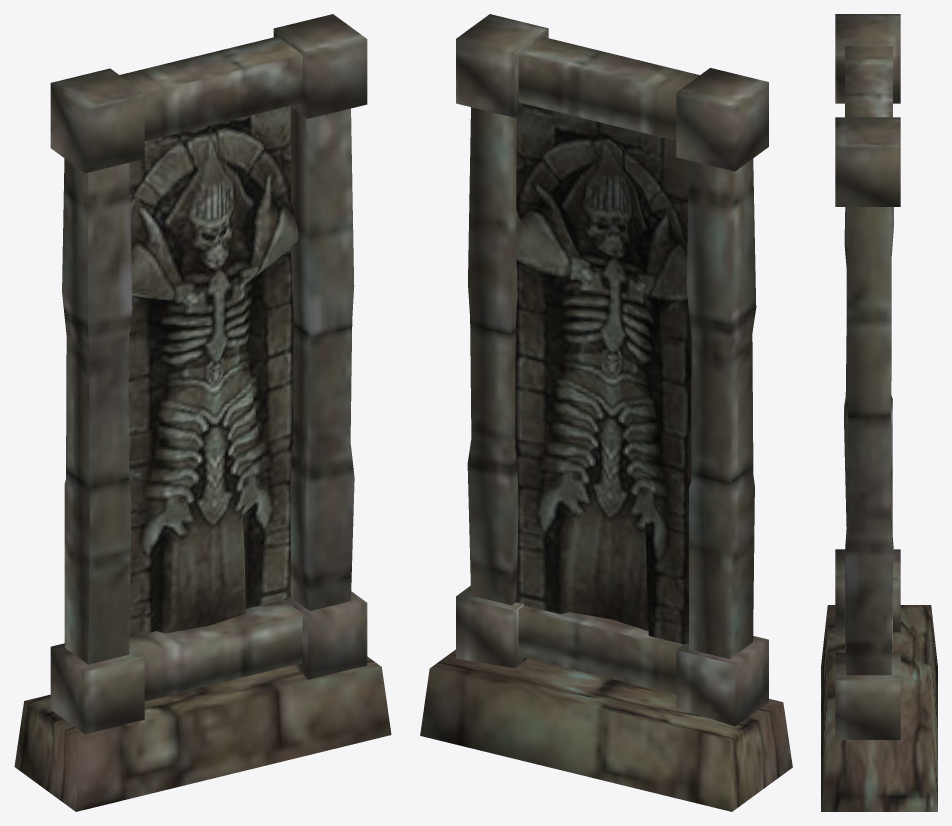
The model's file is King.fbx.
3 renders of one model, left to right at view 1: azimuth 30°, elevation 25°; view 2: azimuth 150°, elevation 25°; view 3: azimuth 270°, elevation 25°, orthographic. The views are drawn at different scales.
Visible parts, largest first — view 1: king; view 2: king; view 3: king.
Boxes of the visible parts, x1,y1,x2,y2 form: king: (14,14,391,811); king: (420,14,792,811); king: (821,14,937,811).
Size of the model in its own units: 1.66 by 3.5 by 0.5616.
